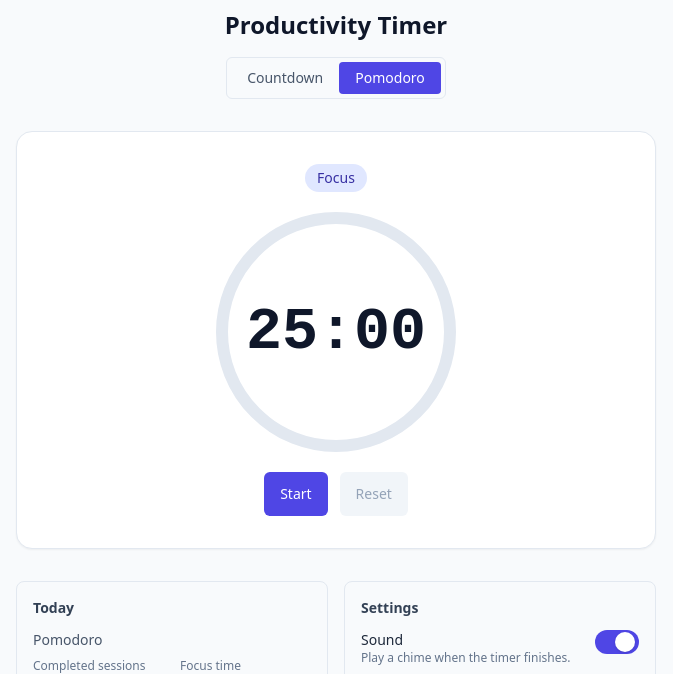
Test case: Pomodoro auto-start › ON: next phase starts automatically
Click the button "Start": (296, 494) left=264, top=472, right=328, bottom=516
Wait 250 ms
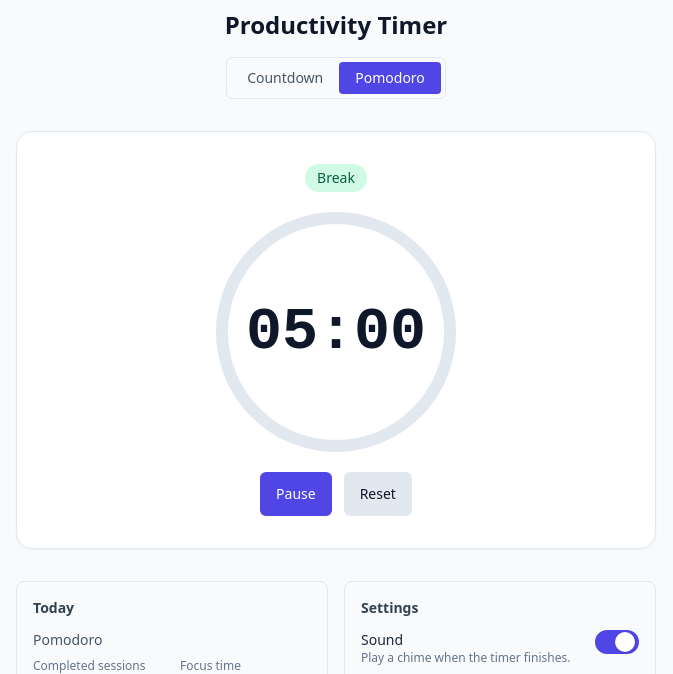
Check: the button "Pause" is shown, box left=260, top=472, right=332, bottom=516
Check: the text "Break" is shown, box left=305, top=164, right=367, bottom=192
